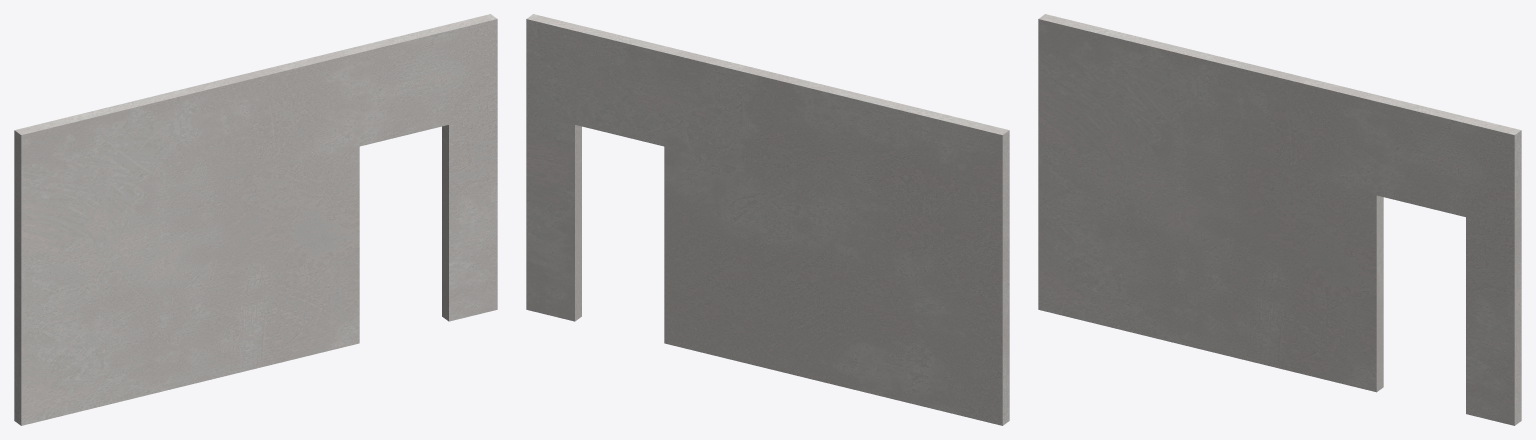
Rendered from wall_door.glb.
3 views of the same model, side by side, from view 1: azimuth 30°, elevation 25°; view 2: azimuth 150°, elevation 25°; view 3: azimuth 330°, elevation 25° (orthographic).
Parts seen in each view (by area): view 1: Door wall; view 2: Door wall; view 3: Door wall.
Part boxes in pixels (bbox=[...]): Door wall: bbox=[14, 14, 497, 425]; Door wall: bbox=[526, 14, 1009, 425]; Door wall: bbox=[1038, 14, 1521, 425].
Size of the model in its own units: 4.8 by 2.8 by 0.12.
1 material, 1 textured.
